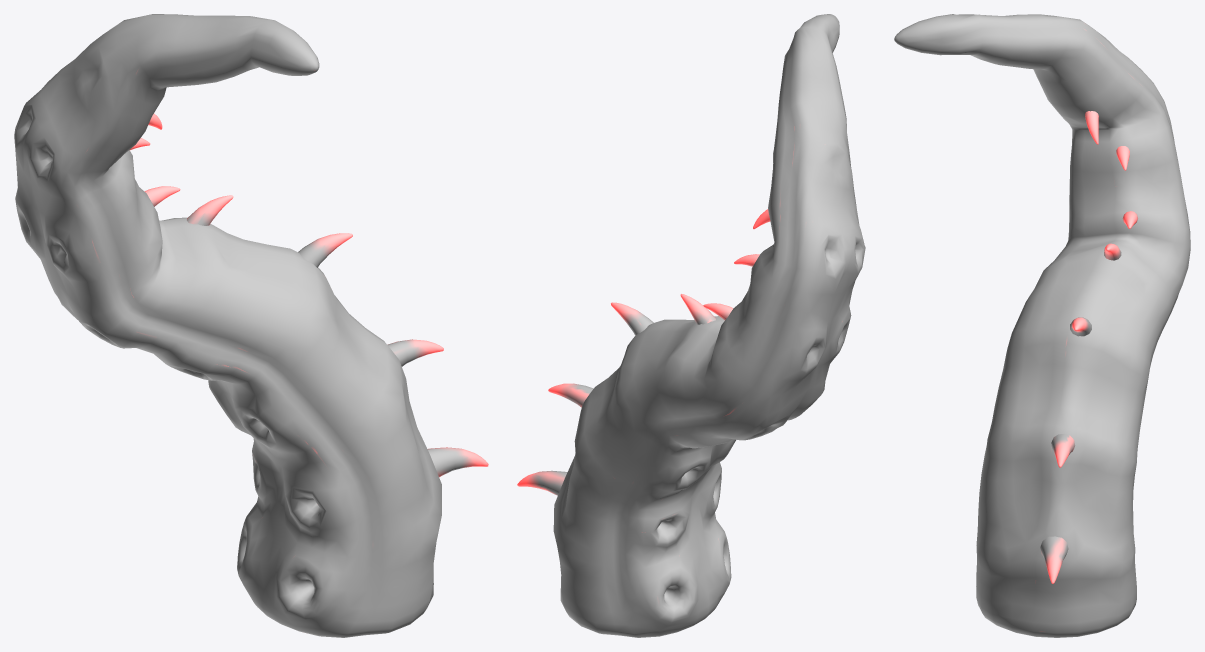
Rendered from wallTentacle_4.fbx.
3 views of the same model, side by side, from view 1: azimuth 30°, elevation 25°; view 2: azimuth 150°, elevation 25°; view 3: azimuth 270°, elevation 25° (orthographic). The views are drawn at different scales.
Parts seen in each view (by area): view 1: wallTentacle.4; view 2: wallTentacle.4; view 3: wallTentacle.4.
Part boxes in pixels (x1=…): wallTentacle.4: x1=14, y1=14, x2=488, y2=637; wallTentacle.4: x1=517, y1=14, x2=865, y2=637; wallTentacle.4: x1=894, y1=14, x2=1190, y2=637.
Size of the model in its own units: 270 by 401 by 199.
